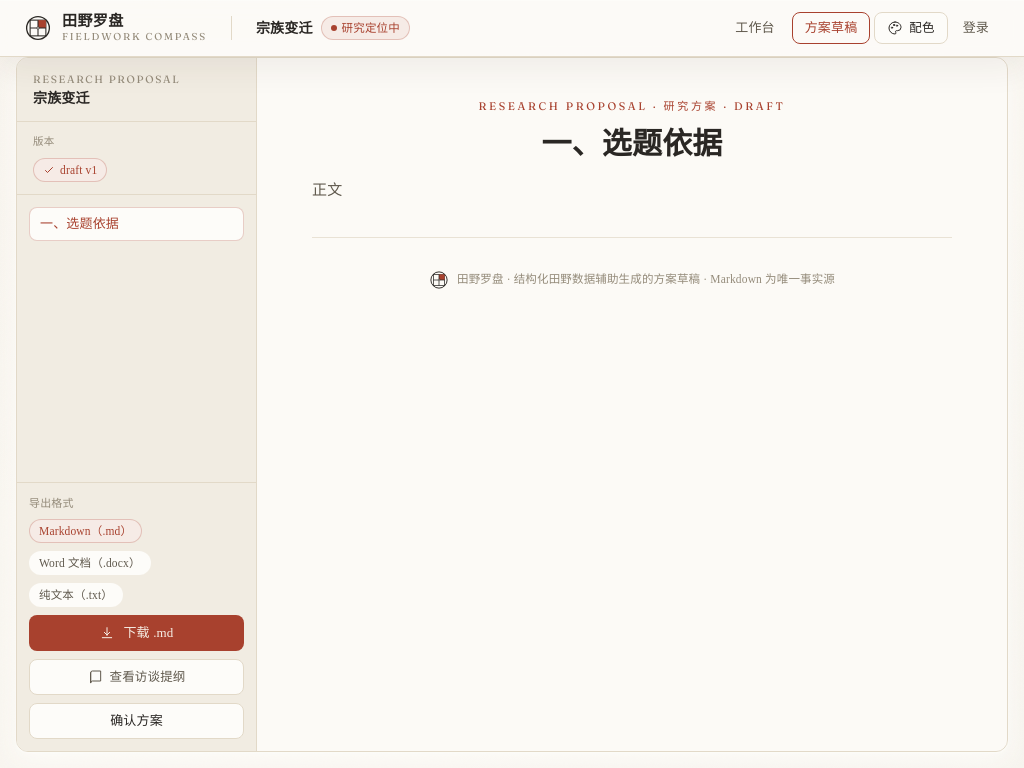
ProposalView 下载（终审#1） › 失败（如 401）显示下载失败提示，不触发 objectURL
The width and height of the screenshot is (1024, 768).
Click the button "下载 .md".
click(136, 633)  # box [29, 615, 244, 651]
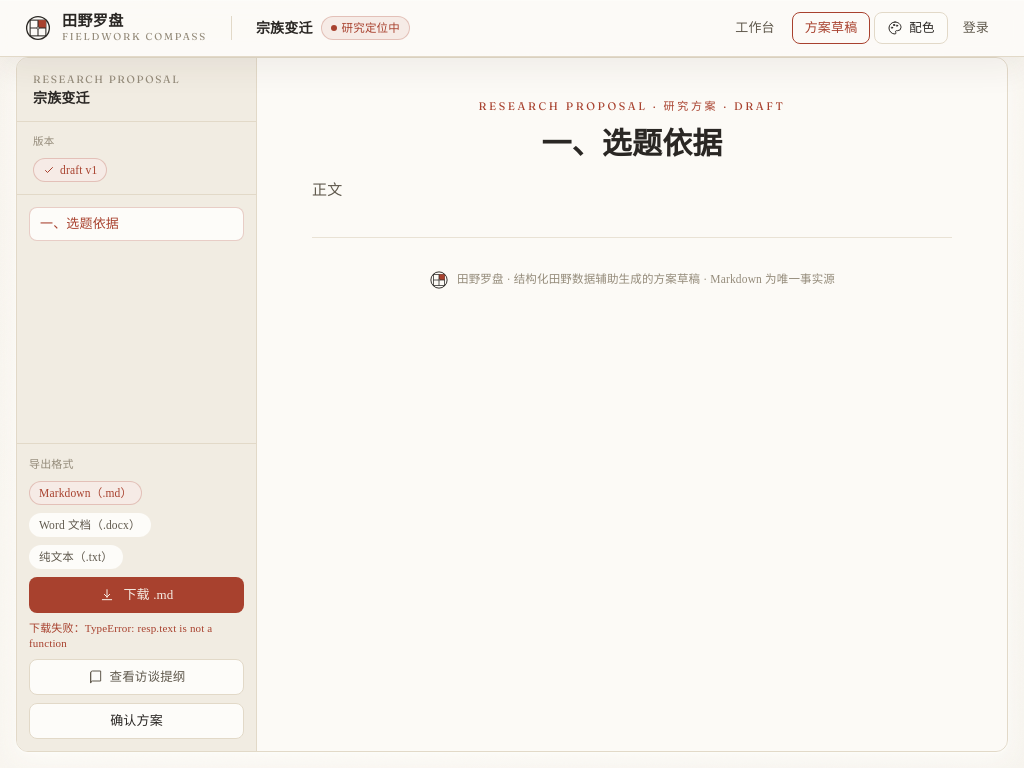
Check: the text "下载失败" is shown, box [29, 622, 212, 649]
